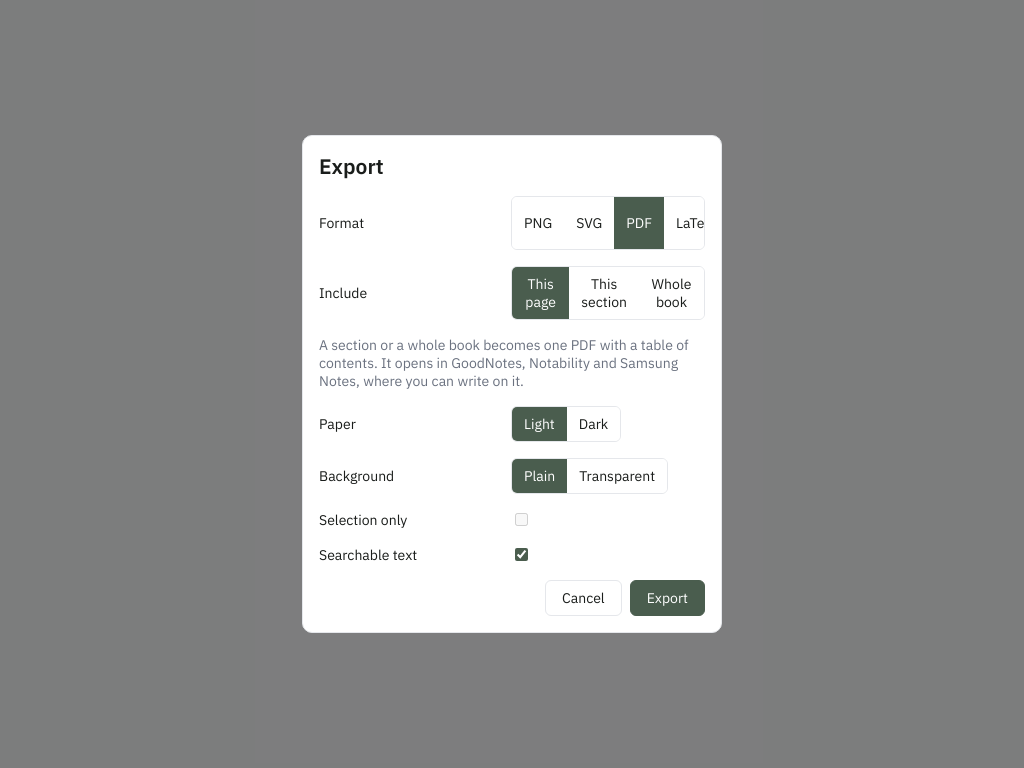
Test case: ExportDialog covers › section and book as one PDF › offers the choice only for PDF, starting on this page
Expected: the element named "Include" is shown, [511,266,705,320]
Expected: the button "Whole book" is shown, [639,267,704,319]
Click the button "PNG" at (538, 223), box [512,197,564,249]
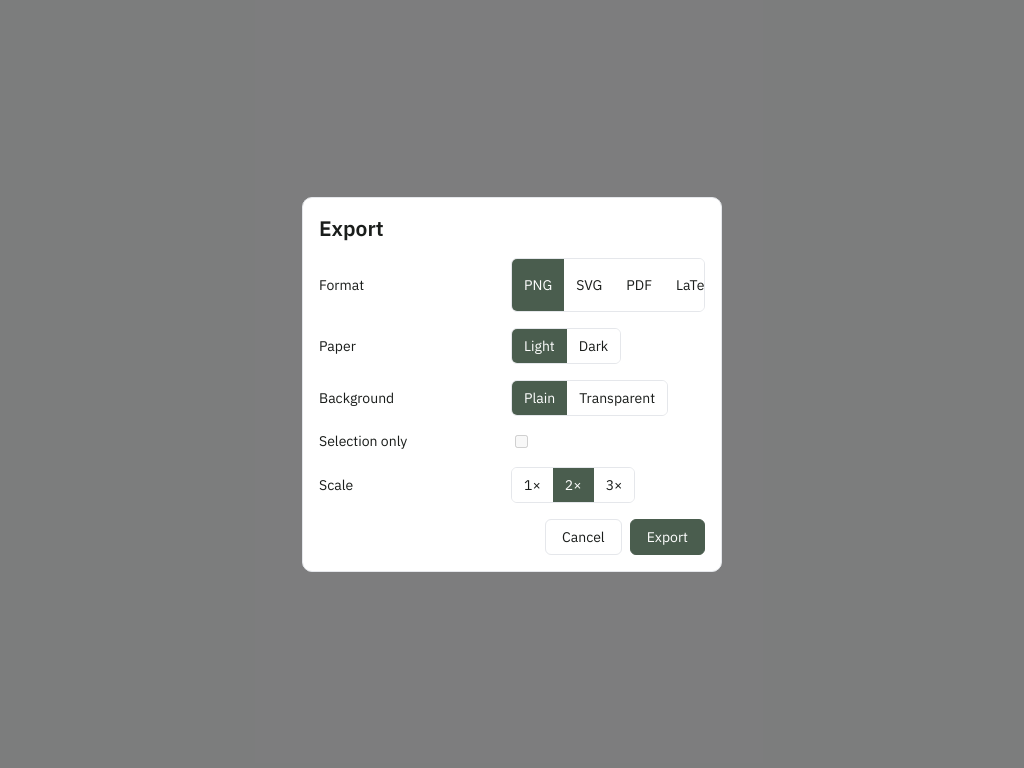
Expected: the text "Include" is gone
